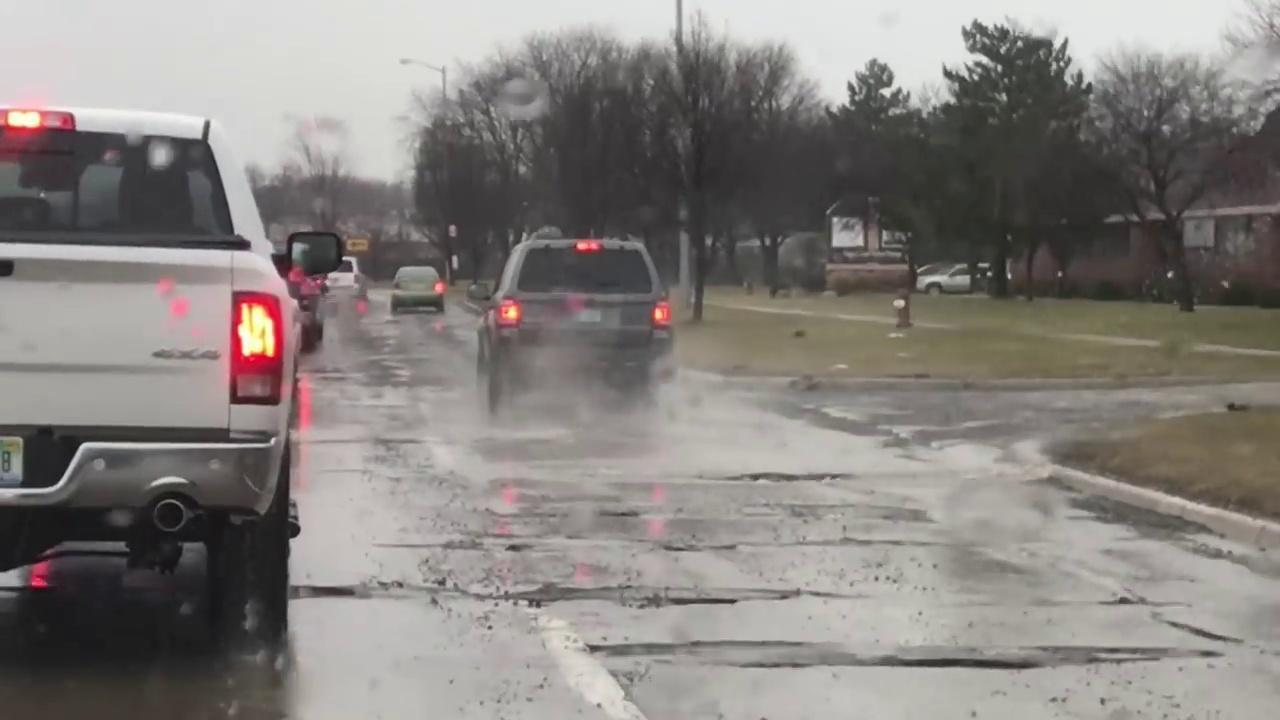pothole: (585, 637, 1216, 675), (297, 579, 816, 611)
